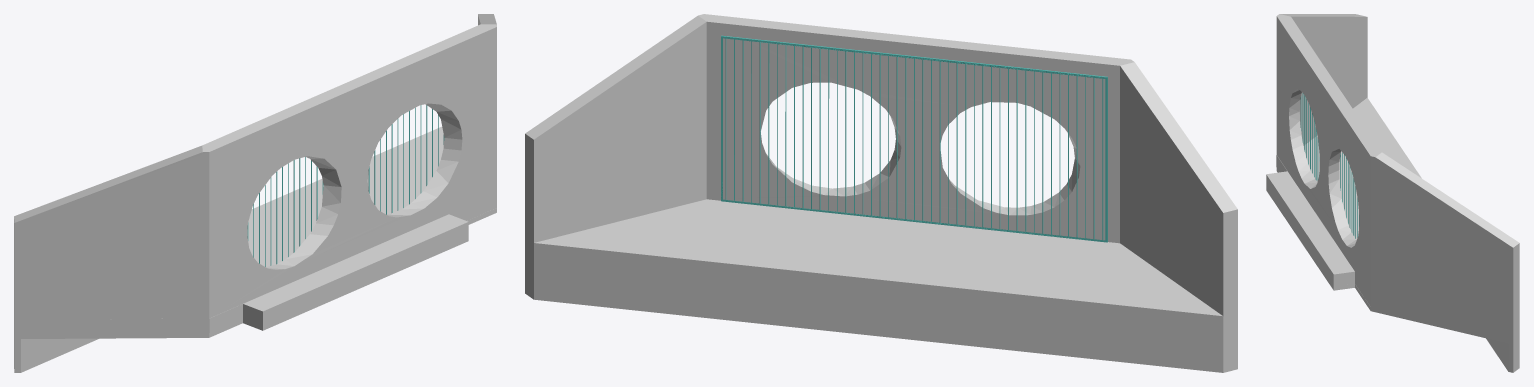
Rendered from 500125-CSSP001-780-XX-MD-ST-000347.glb.
3 views of the same model, side by side, from view 1: azimuth 30°, elevation 25°; view 2: azimuth 150°, elevation 25°; view 3: azimuth 270°, elevation 25° (orthographic). The views are drawn at different scales.
Visible parts, largest first — view 1: 500125-CSSP001-780-XX-MD-ST-000347#OTR001, 500125-CSSP001-780-XX-MD-ST-000347#SUM001; view 2: 500125-CSSP001-780-XX-MD-ST-000347#OTR001, 500125-CSSP001-780-XX-MD-ST-000347#SUM001; view 3: 500125-CSSP001-780-XX-MD-ST-000347#OTR001, 500125-CSSP001-780-XX-MD-ST-000347#SUM001.
Boxes of the visible parts, x1=… form: 500125-CSSP001-780-XX-MD-ST-000347#OTR001: x1=14, y1=14, x2=496, y2=372; 500125-CSSP001-780-XX-MD-ST-000347#SUM001: x1=247, y1=105, x2=444, y2=266; 500125-CSSP001-780-XX-MD-ST-000347#OTR001: x1=525, y1=14, x2=1237, y2=372; 500125-CSSP001-780-XX-MD-ST-000347#SUM001: x1=721, y1=35, x2=1107, y2=242; 500125-CSSP001-780-XX-MD-ST-000347#OTR001: x1=1266, y1=14, x2=1519, y2=372; 500125-CSSP001-780-XX-MD-ST-000347#SUM001: x1=1300, y1=93, x2=1359, y2=238.
Bounding box in the file's own units: 12.42 × 4.54 × 5.69.
